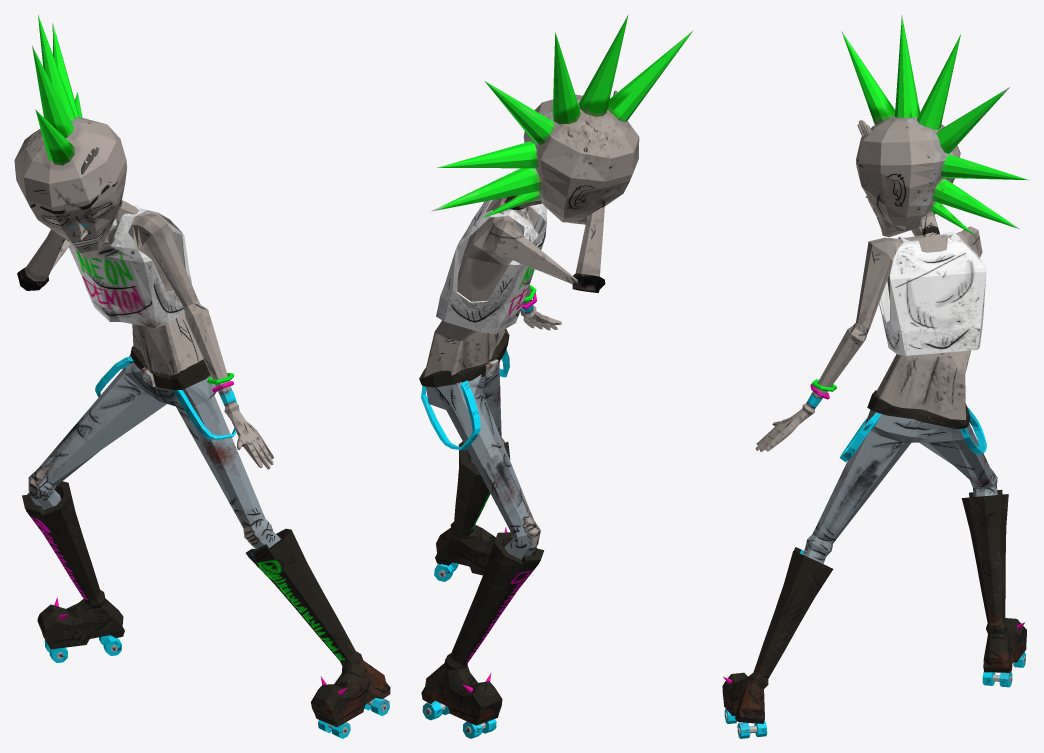
File: punkAnimation_000055.obj
3 views of the same model, side by side, from view 1: azimuth 30°, elevation 25°; view 2: azimuth 150°, elevation 25°; view 3: azimuth 270°, elevation 25° (orthographic). The views are drawn at different scales.
Parts seen in each view (by area): view 1: Cube.004_Cube.003; view 2: Cube.004_Cube.003; view 3: Cube.004_Cube.003.
Part boxes in pixels (x1=…): Cube.004_Cube.003: x1=14, y1=15, x2=390, y2=738; Cube.004_Cube.003: x1=419, y1=14, x2=693, y2=738; Cube.004_Cube.003: x1=722, y1=15, x2=1028, y2=738.
Bounding box in the file's own units: 3.12 × 6.72 × 3.04.
